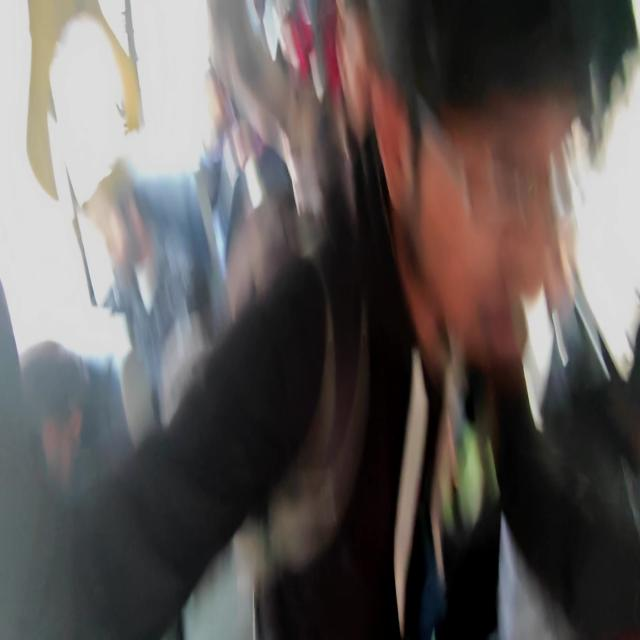person: (364, 2, 604, 348), (0, 366, 90, 516), (161, 366, 241, 517), (80, 189, 160, 298), (330, 12, 390, 144), (192, 56, 237, 140), (279, 5, 319, 78)
